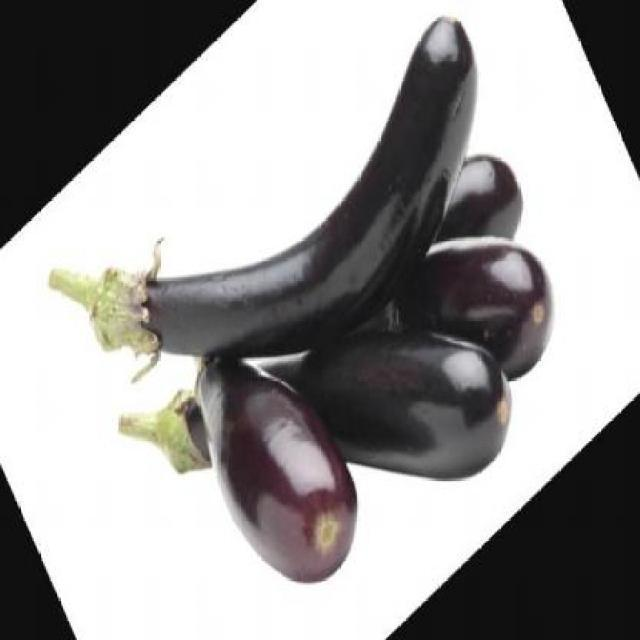eggplant: (44, 0, 527, 532), (135, 320, 518, 576), (338, 169, 578, 491), (164, 268, 376, 626), (412, 129, 534, 297)
